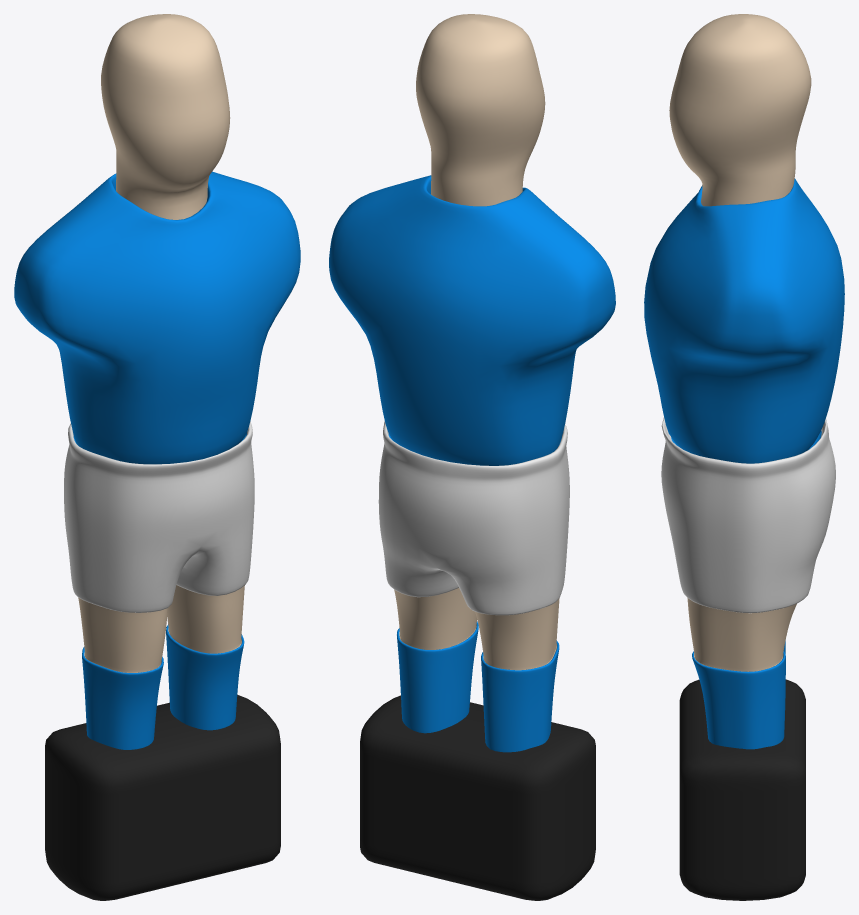
Rendered from biliardino - giocatore 01.fbx.
3 views of the same model, side by side, from view 1: azimuth 30°, elevation 25°; view 2: azimuth 150°, elevation 25°; view 3: azimuth 270°, elevation 25° (orthographic).
Parts seen in each view (by area): view 1: Cylinder.025; view 2: Cylinder.025; view 3: Cylinder.025.
Part boxes in pixels (bbox=[...]): Cylinder.025: bbox=[14, 14, 300, 900]; Cylinder.025: bbox=[329, 14, 615, 900]; Cylinder.025: bbox=[644, 14, 844, 900].
Size of the model in its own units: 45.71 by 142 by 30.71.
